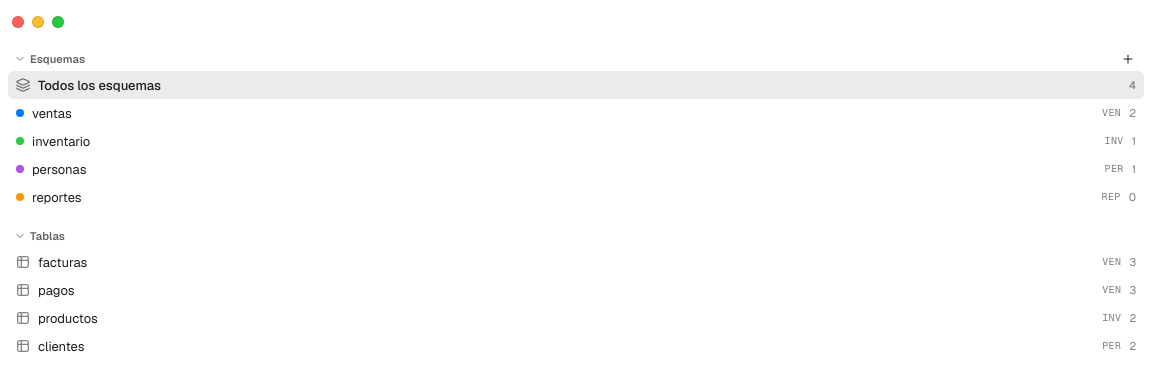
it: filas de tabla de la barra lateral (FR-036, FR-041) › su menú contextual es el mismo de la tarjeta (FR-036)
The image size is (1152, 369).
Right-click the button with aria-label "Tabla facturas," at (63, 262), box [8,248,1144,276]
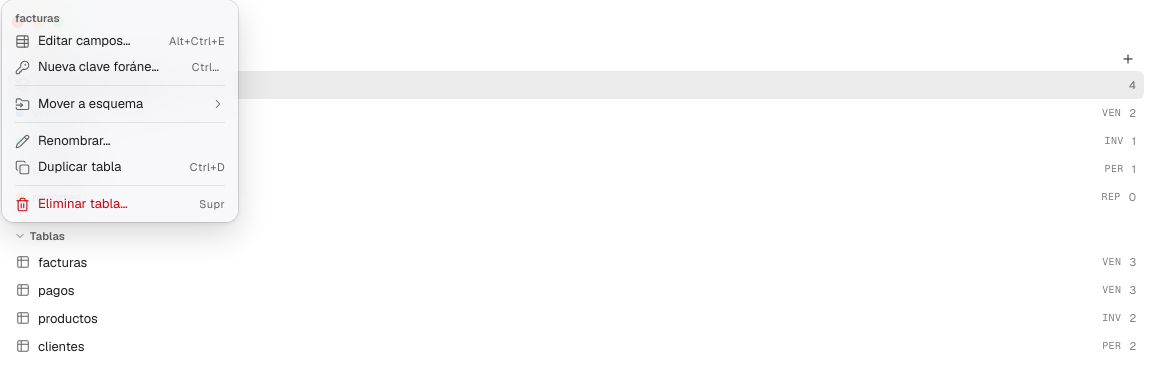
Expected: the menu item "Editar campos… Alt+Ctrl+E" is shown, [7,28,233,54]
Expected: the menu item "Mover a esquema" is shown, [7,91,233,117]
Expected: the menu item "Eliminar tabla… Supr" is shown, [7,191,233,217]
